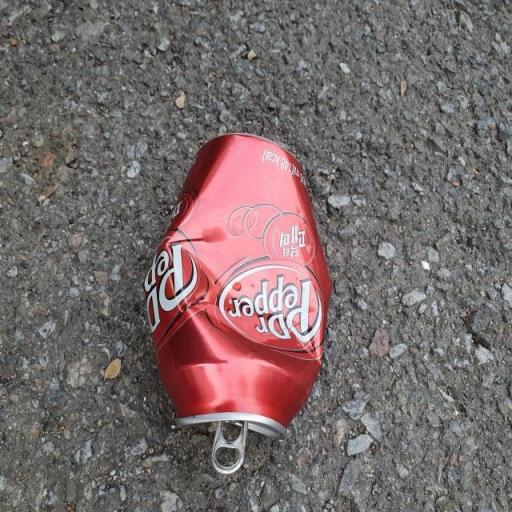metal: (128, 100, 338, 484)
